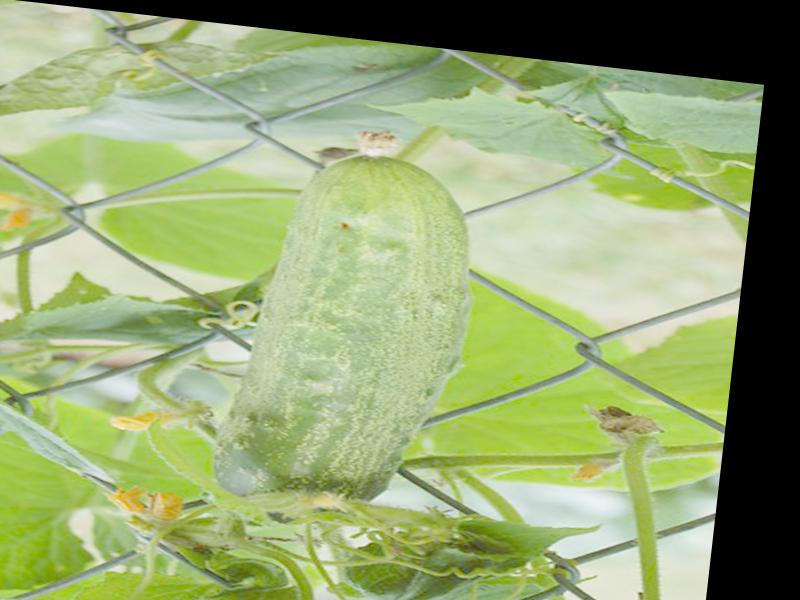Cucumber: (214, 120, 481, 537)
